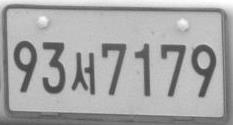1: (133, 42, 158, 97)
3: (41, 41, 67, 94)
7: (160, 43, 187, 97), (100, 42, 127, 95)
9: (12, 39, 38, 93), (191, 43, 216, 98)
서: (71, 51, 95, 95)
